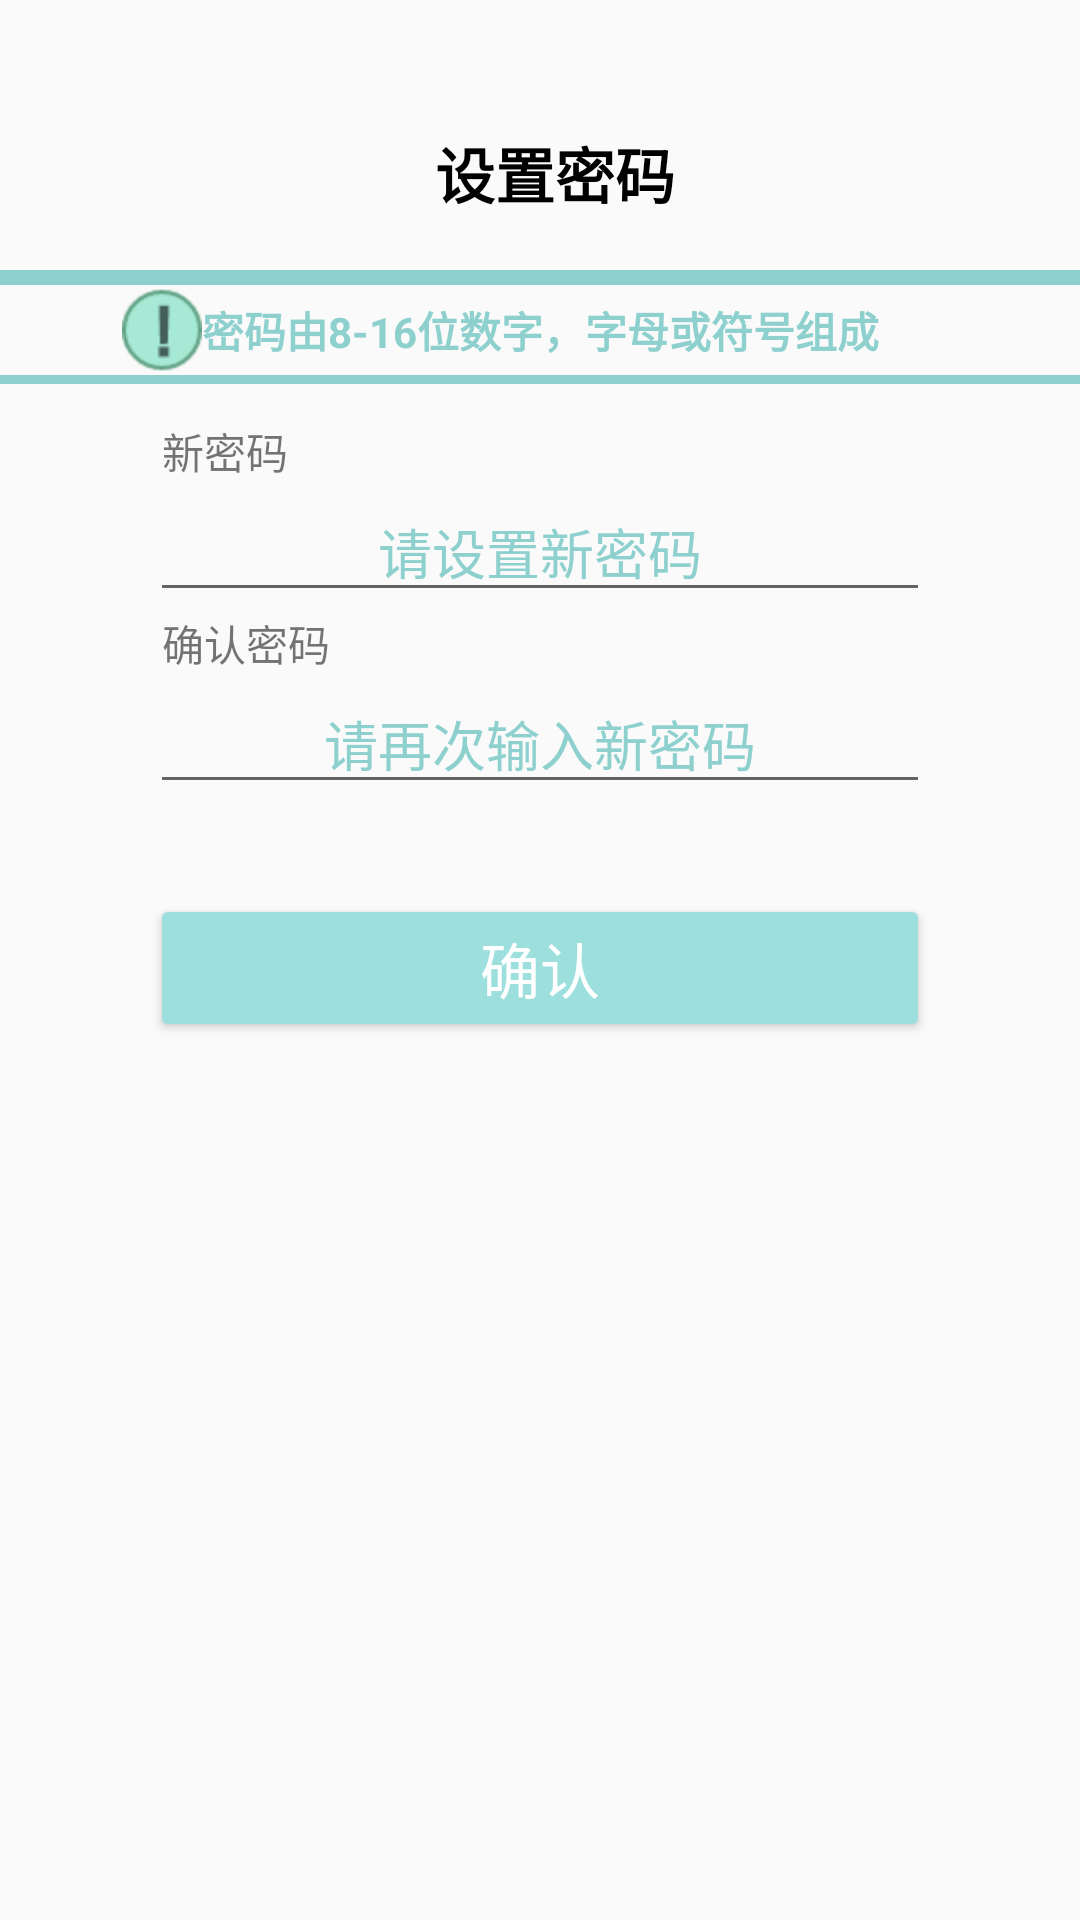

Point at icon controls on the screen. Image size 1080 x 1920, points as point (x, y).
gantanhao: point (162, 330)
